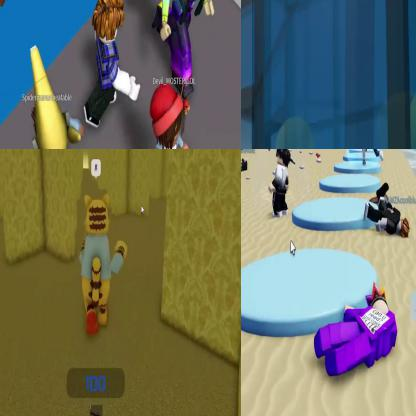Roblox-Avatar: (315, 282, 399, 378), (85, 1, 142, 130), (21, 46, 86, 149), (81, 195, 128, 336), (161, 1, 216, 100), (149, 84, 191, 149), (365, 197, 411, 239), (269, 150, 293, 220), (242, 159, 249, 174)
